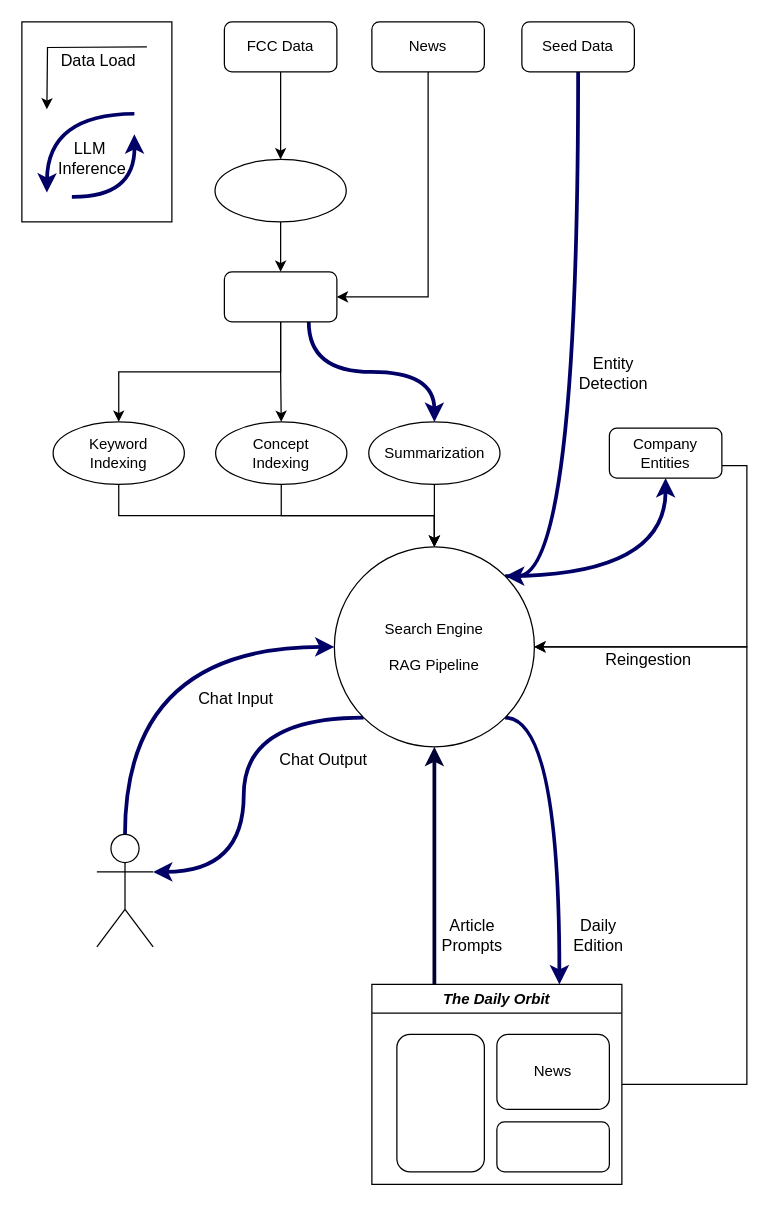
This 779x1206 diagram has some shape labels left out. The centre of each missing label's shape, as x and y in pixels:
"Ad" belongs at pixel 552 1146.
"Editorial" belongs at pixel 440 1102.
"Extract Text" belongs at pixel 280 190.
"Structured Text" belongs at pixel 280 296.
"User" belongs at pixel 124 890.
